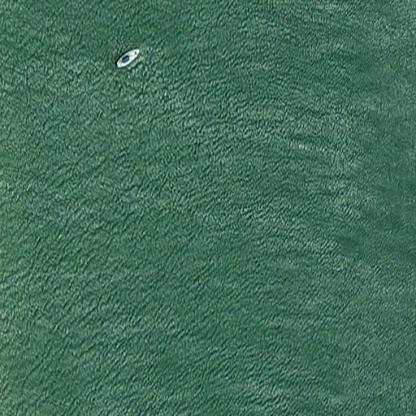ship: (114, 45, 140, 70)
